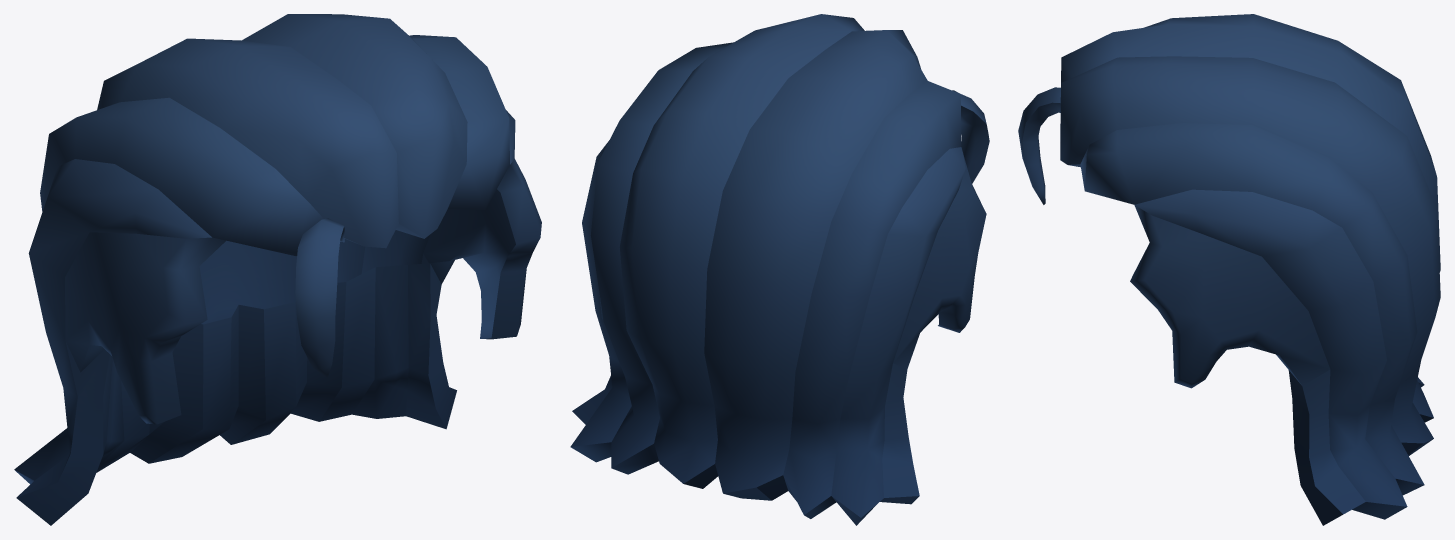
The model's file is Hair_Blue_9.fbx.
3 views of the same model, side by side, from view 1: azimuth 30°, elevation 25°; view 2: azimuth 150°, elevation 25°; view 3: azimuth 270°, elevation 25° (orthographic). The views are drawn at different scales.
Visible parts, largest first — view 1: Hair_Blue_9; view 2: Hair_Blue_9; view 3: Hair_Blue_9.
Part boxes in pixels (x1=…): Hair_Blue_9: x1=14, y1=14, x2=541, y2=525; Hair_Blue_9: x1=570, y1=14, x2=989, y2=525; Hair_Blue_9: x1=1018, y1=14, x2=1440, y2=525.
Bounding box in the file's own units: 58.08 × 61.17 × 57.42.
